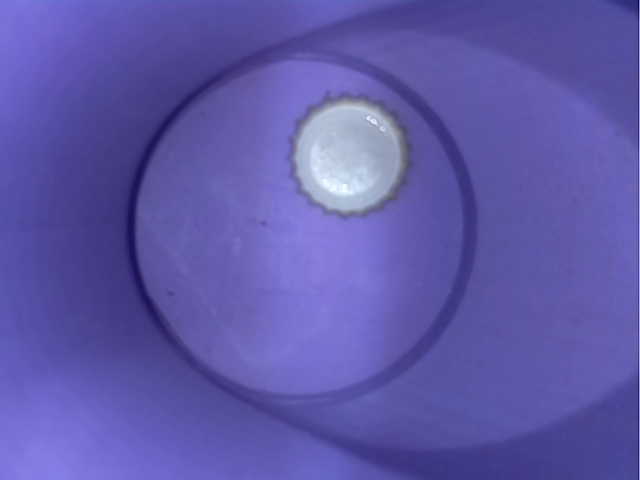capsule: (266, 79, 442, 225)
